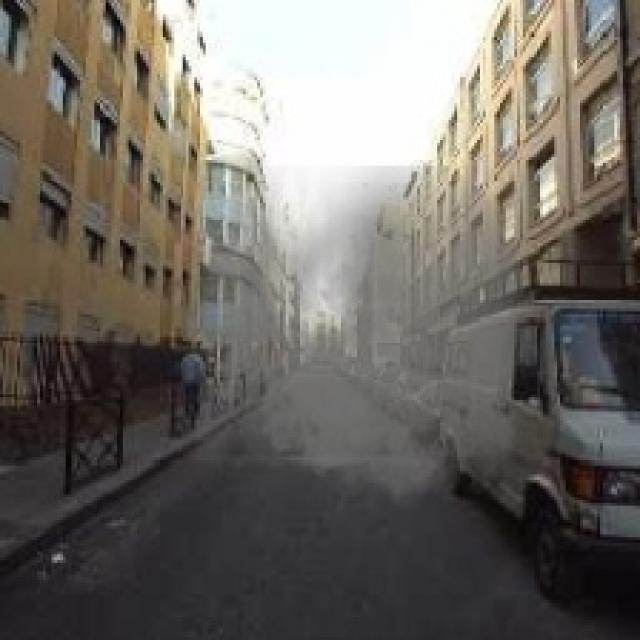smoke: (194, 166, 537, 520)
